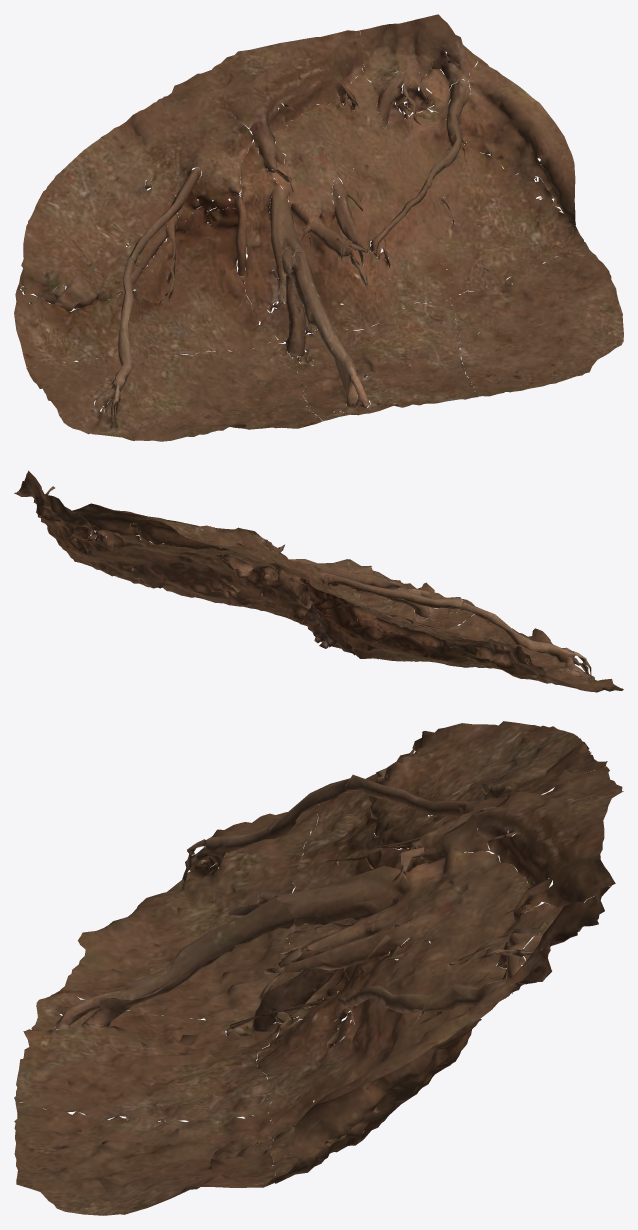
File: Tree-ahBEW2RRgq.glb
3 views of the same model, one above another, from view 1: azimuth 30°, elevation 25°; view 2: azimuth 150°, elevation 25°; view 3: azimuth 270°, elevation 25° (orthographic). The views are drawn at different scales.
Visible parts, largest first — view 1: root_cluster_01; view 2: root_cluster_01; view 3: root_cluster_01.
Part boxes in pixels (left/top/right/bottom): root_cluster_01: left=14, top=14, right=623, bottom=441; root_cluster_01: left=14, top=470, right=623, bottom=692; root_cluster_01: left=14, top=721, right=623, bottom=1215.
Bounding box in the file's own units: 1.5 × 0.5483 × 0.9771.
Materials: 1 (1 with a texture image).
